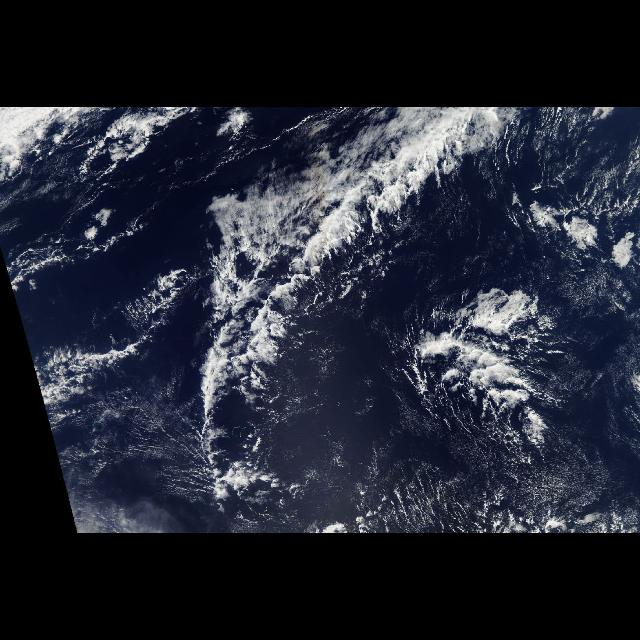Fish: (120, 107, 626, 533)
Sugar: (308, 446, 634, 534), (39, 390, 207, 530)
